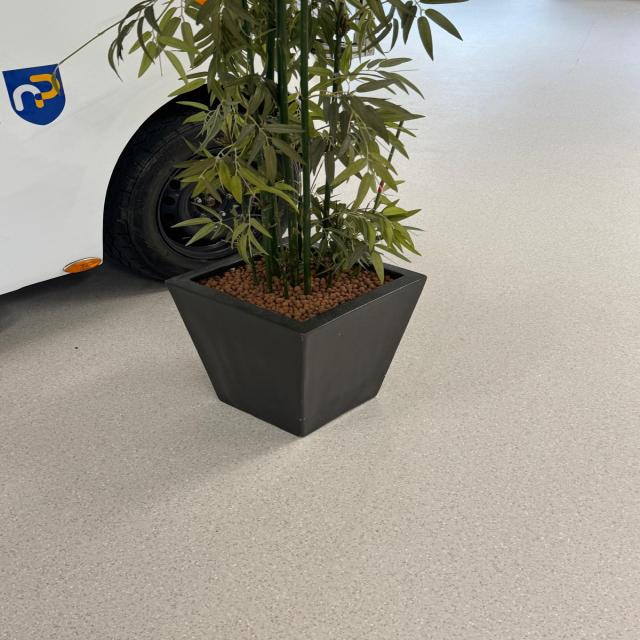Pot: (165, 234, 427, 439)
